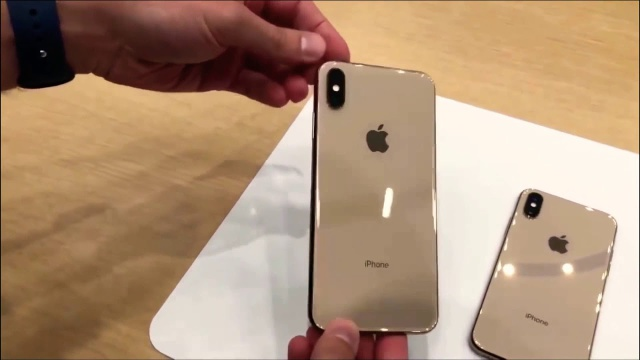apple: (361, 117, 400, 169), (546, 228, 580, 272)
